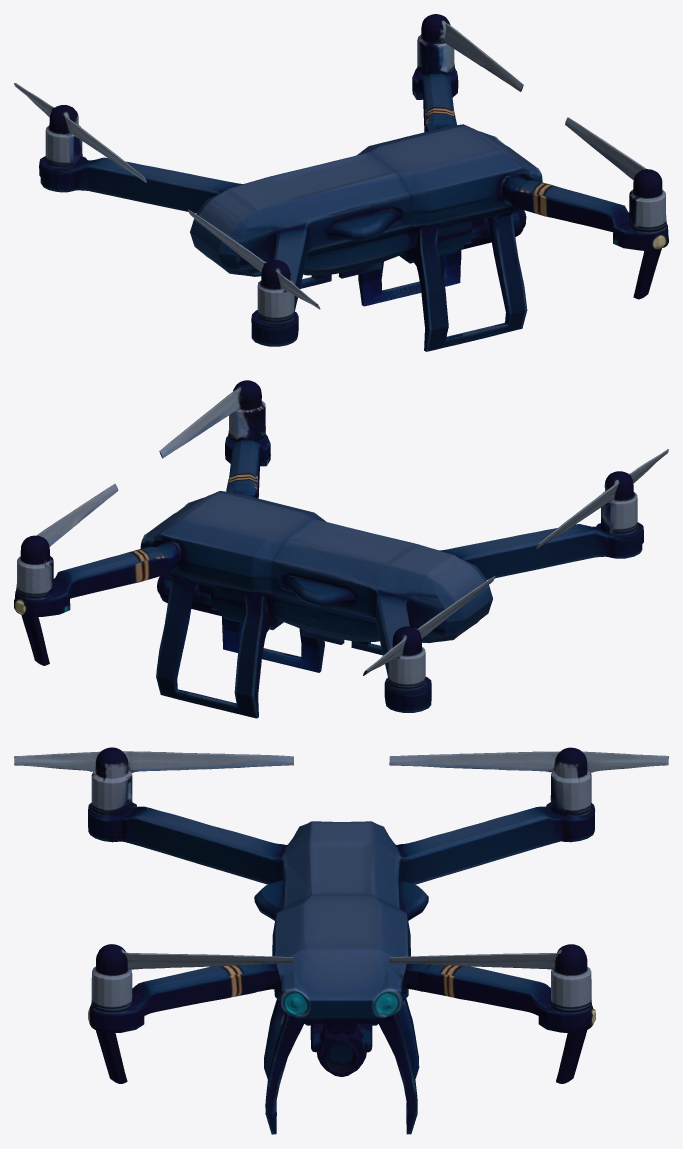
File: drone-3d-model.gltf
The picture shows the model from 3 angles, top to bottom: view 1: azimuth 30°, elevation 25°; view 2: azimuth 150°, elevation 25°; view 3: azimuth 270°, elevation 25°; orthographic projection. The views are drawn at different scales.
Parts seen in each view (by area): view 1: tripo_node_83bdbbc3-c505-44c8-bd54-4f029a8008d0; view 2: tripo_node_83bdbbc3-c505-44c8-bd54-4f029a8008d0; view 3: tripo_node_83bdbbc3-c505-44c8-bd54-4f029a8008d0.
Part boxes in pixels (bbox=[...]): tripo_node_83bdbbc3-c505-44c8-bd54-4f029a8008d0: bbox=[14, 14, 668, 351]; tripo_node_83bdbbc3-c505-44c8-bd54-4f029a8008d0: bbox=[14, 380, 668, 718]; tripo_node_83bdbbc3-c505-44c8-bd54-4f029a8008d0: bbox=[14, 747, 668, 1134].
Size of the model in its own units: 0.7863 by 0.3639 by 1.
1 material, 1 textured.
